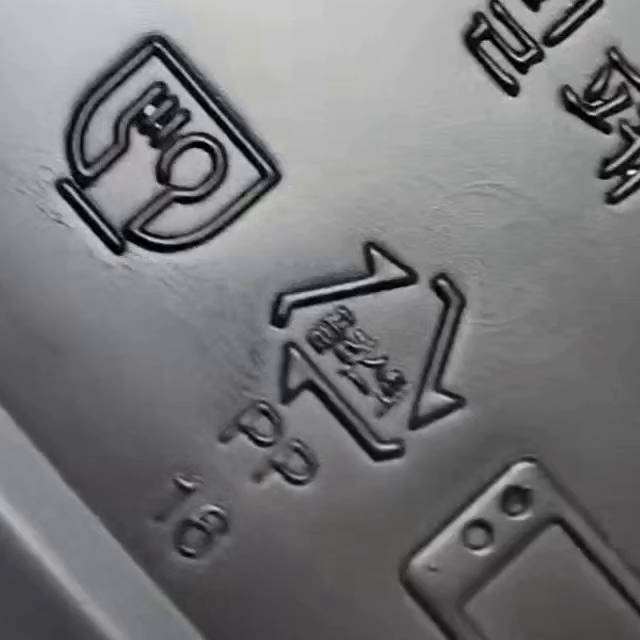Plastic: (269, 238, 469, 464)
